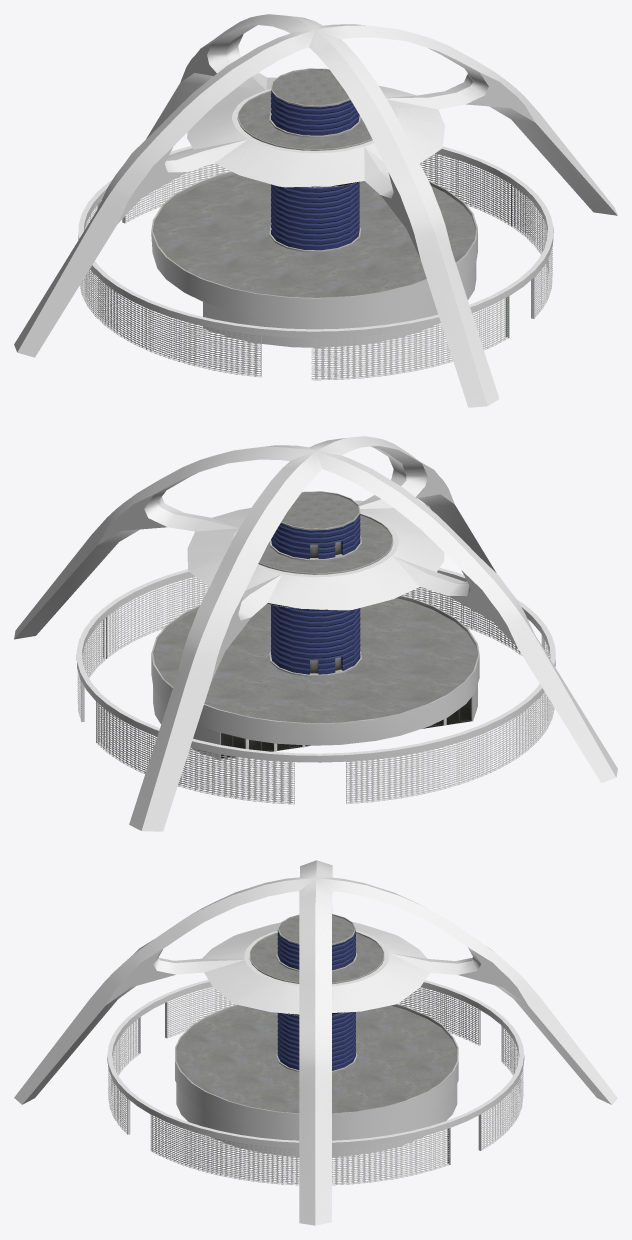
The model's file is ресторан аэропорта с забором.FBX.
The picture shows the model from 3 angles, top to bottom: view 1: azimuth 30°, elevation 25°; view 2: azimuth 150°, elevation 25°; view 3: azimuth 270°, elevation 25°; orthographic projection. The views are drawn at different scales.
Visible parts, largest first — view 1: Object, Tube01; view 2: Object, Tube01; view 3: Object, Tube01.
Boxes of the visible parts, left/top/right/bottom form: Object: left=14, top=14, right=617, bottom=407; Tube01: left=78, top=146, right=553, bottom=380; Object: left=14, top=436, right=617, bottom=831; Tube01: left=76, top=568, right=555, bottom=804; Object: left=14, top=860, right=617, bottom=1225; Tube01: left=107, top=980, right=524, bottom=1185.
Size of the model in its own units: 1006 by 404 by 1006.
